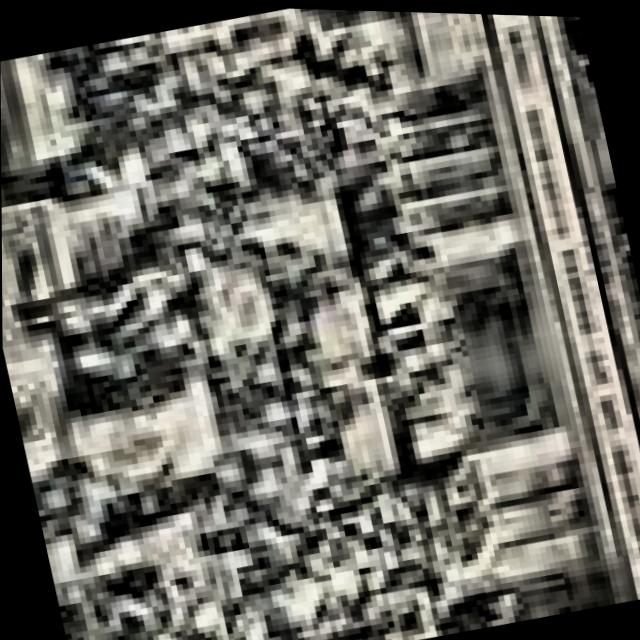paper: (0, 7, 640, 640)
